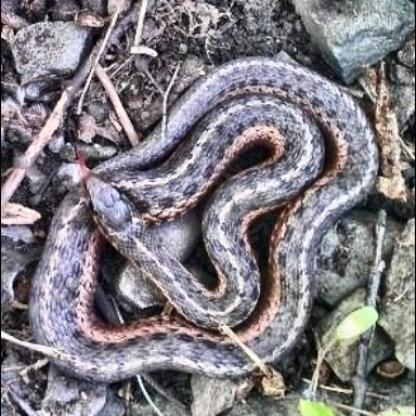Snake: (32, 49, 382, 380)
